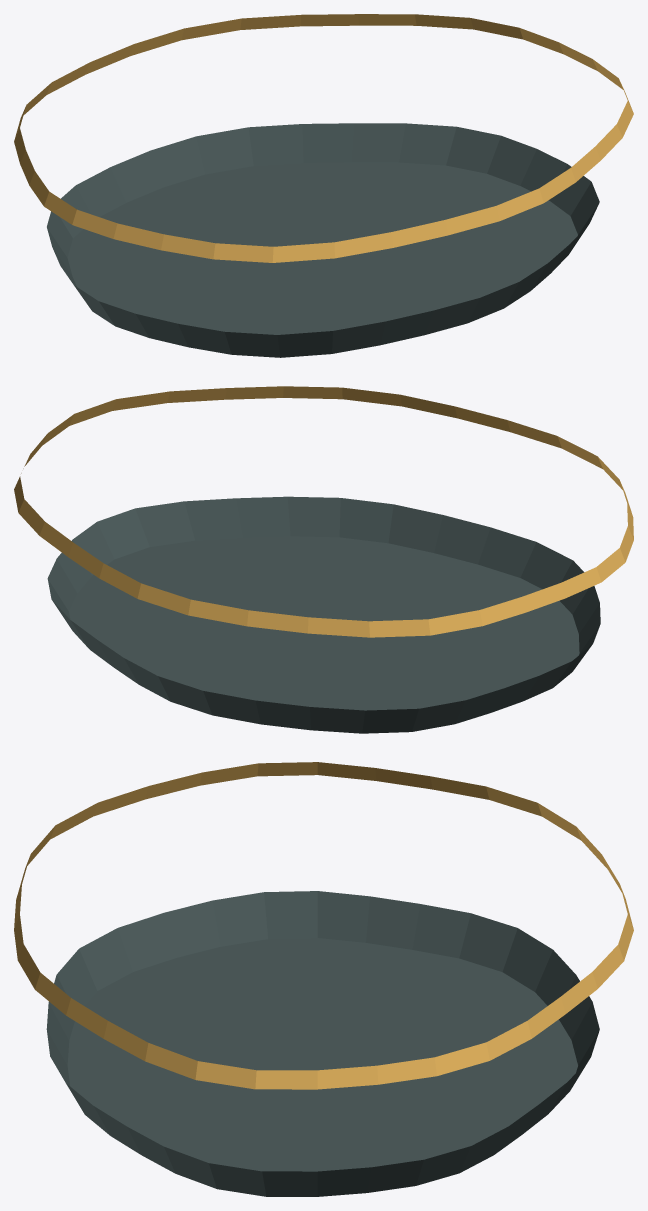
File: gate_rim.obj
The picture shows the model from 3 angles, top to bottom: view 1: azimuth 30°, elevation 25°; view 2: azimuth 150°, elevation 25°; view 3: azimuth 270°, elevation 25°; orthographic projection. The views are drawn at different scales.
Visible parts, largest first — view 1: gate_rim; view 2: gate_rim; view 3: gate_rim.
Boxes of the visible parts, bbox=[...] form: gate_rim: bbox=[14, 14, 633, 357]; gate_rim: bbox=[14, 386, 633, 733]; gate_rim: bbox=[14, 762, 633, 1196].
Size of the model in its own units: 30.6 by 6.88 by 25.5.
